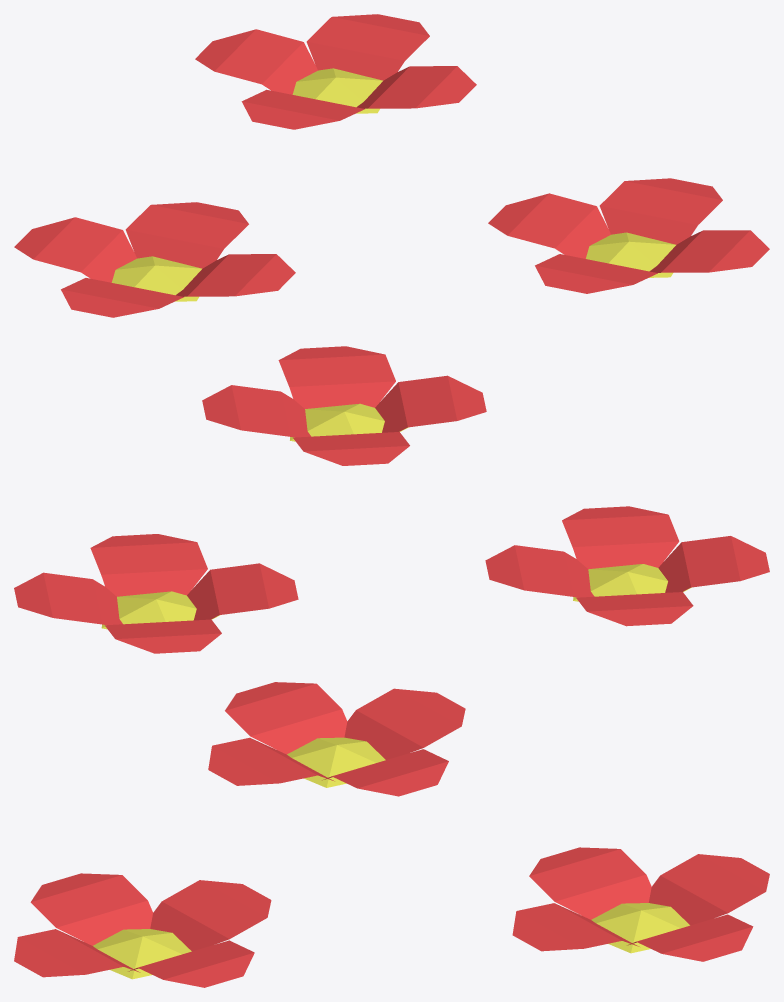
Rendered from Flowers.fbx.
3 views of the same model, one above another, from view 1: azimuth 30°, elevation 25°; view 2: azimuth 150°, elevation 25°; view 3: azimuth 270°, elevation 25° (orthographic). The views are drawn at different scales.
Visible parts, largest first — view 1: Flowers; view 2: Flowers; view 3: Flowers.
Part boxes in pixels (x1=…): Flowers: x1=14, y1=14, x2=769, y2=317; Flowers: x1=14, y1=346, x2=769, y2=653; Flowers: x1=14, y1=682, x2=769, y2=987.
Size of the model in its own units: 67.31 by 2.69 by 64.44.
